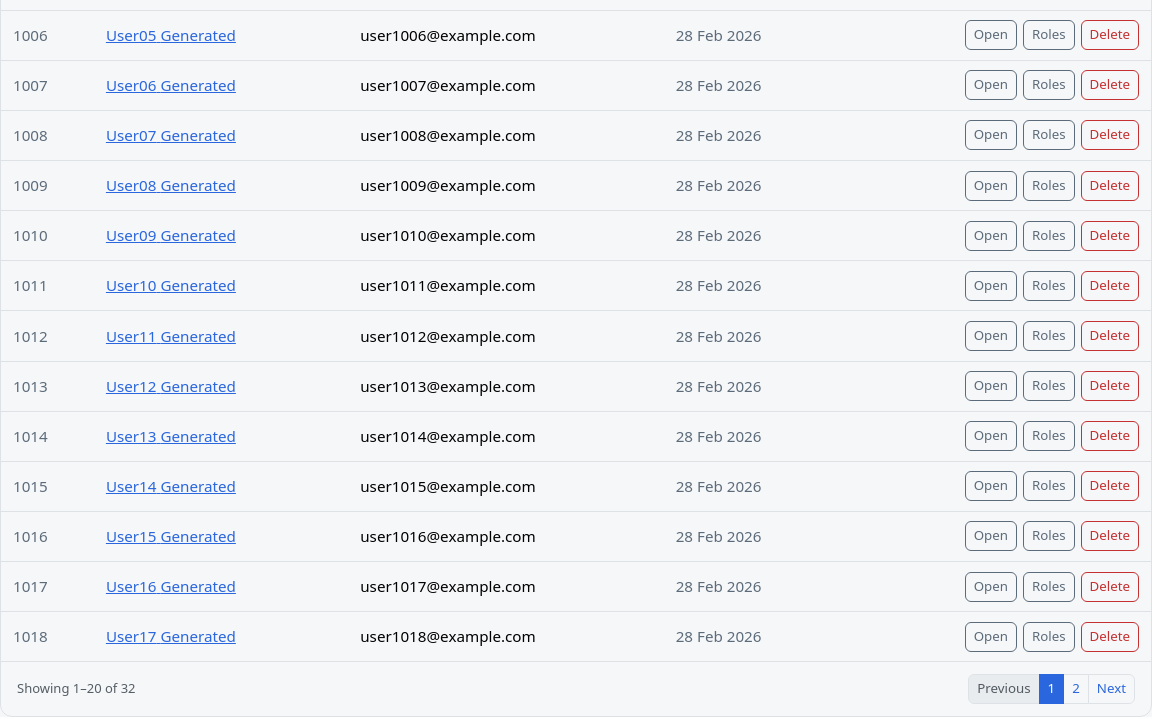
Test: List screens › jumps to a page by number
This screenshot has width=1152, height=717.
(page scrolled)
Expected: the text "Showing 1–20 of 32" is shown, [17, 680, 136, 699]
Click the button "2": [1076, 689] box [1063, 674, 1089, 704]
(page scrolled)
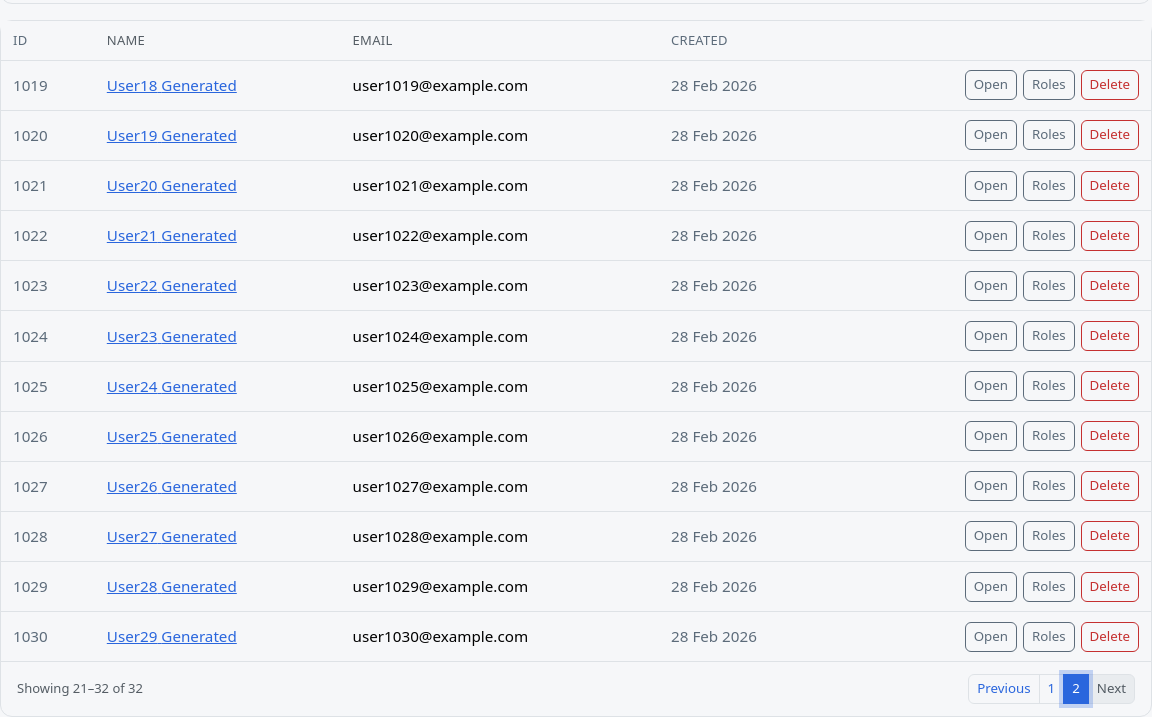
Result: the text "Showing 21–32 of 32" is shown at [17, 680, 143, 699]
